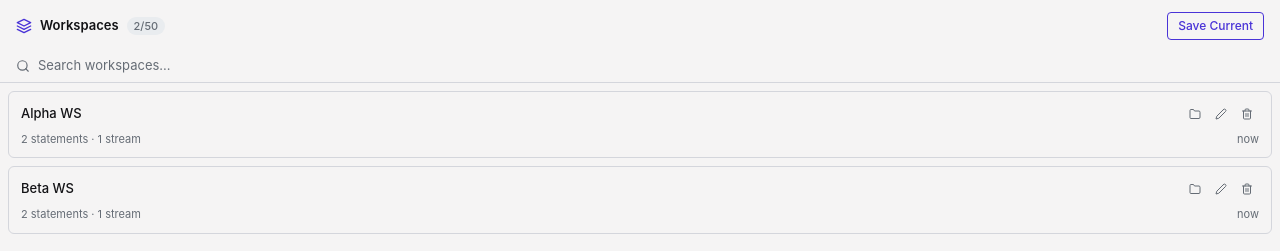
Test case: [@workspaces] WorkspacesPanel — search › shows no-match state when nothing found
Type "zzz-no-match" into the field labelled "Search workspaces...".
click(651, 66); type("zzz-no-match")  # box [38,56,1264,76]
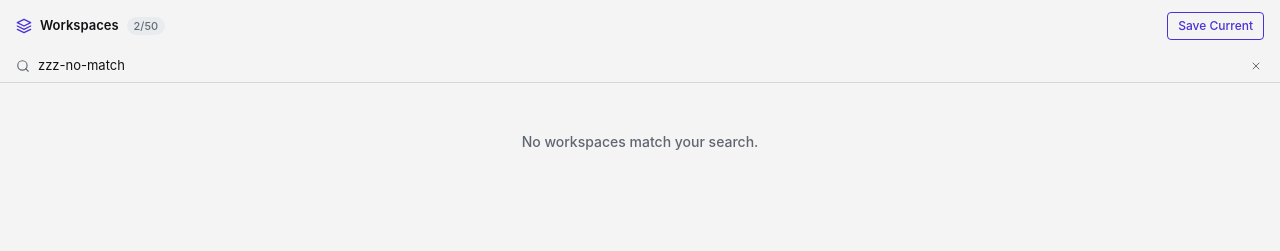
Now the text "No workspaces match your search." is shown, box [522,130,758,152]
